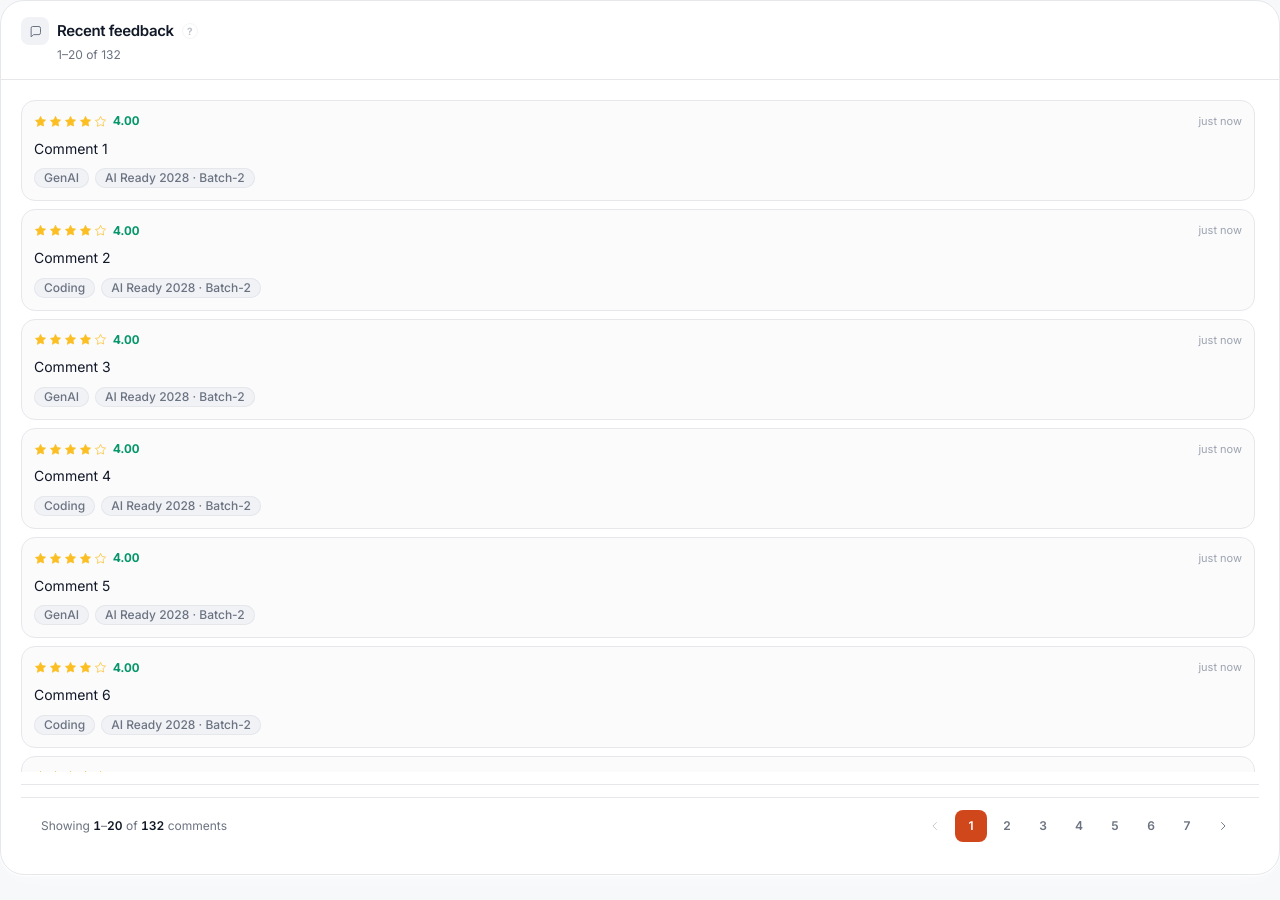
Test: CommentsFeed › pages with numbered buttons, fetching only what it needs
Click the button named "page 2": {"x": 1007, "y": 826} [991,810,1023,842]
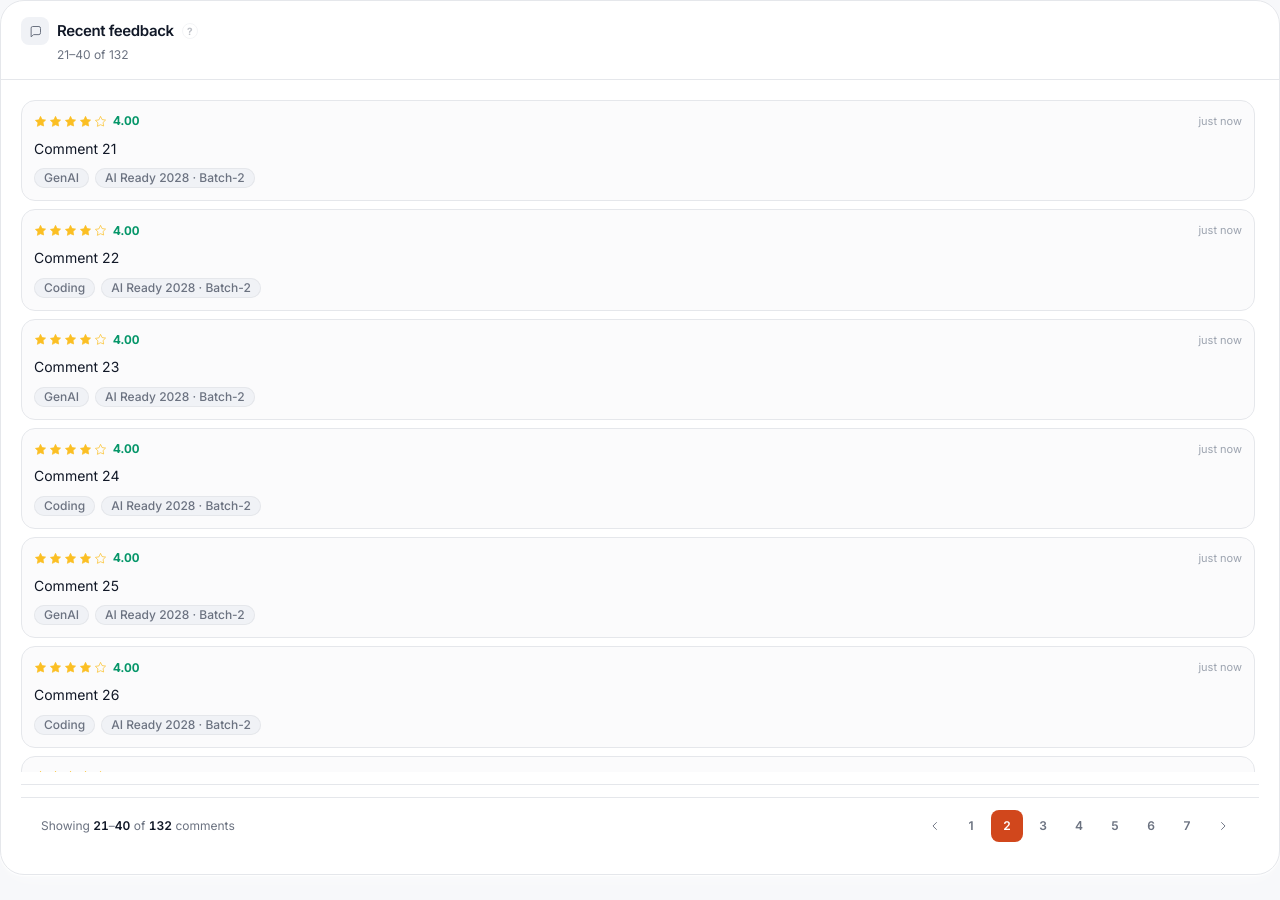
Now the text "Comment 21" is shown, box [34,140,116,156]
Now the text "21–40 of 132" is shown, box [57,47,128,62]
